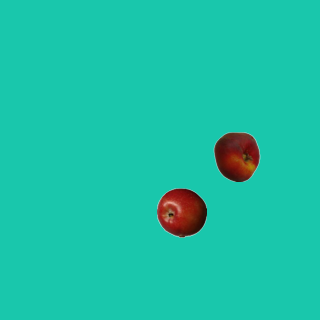Apple Braeburn: (156, 187, 206, 237)
Nectarine Flat: (211, 131, 261, 181)
